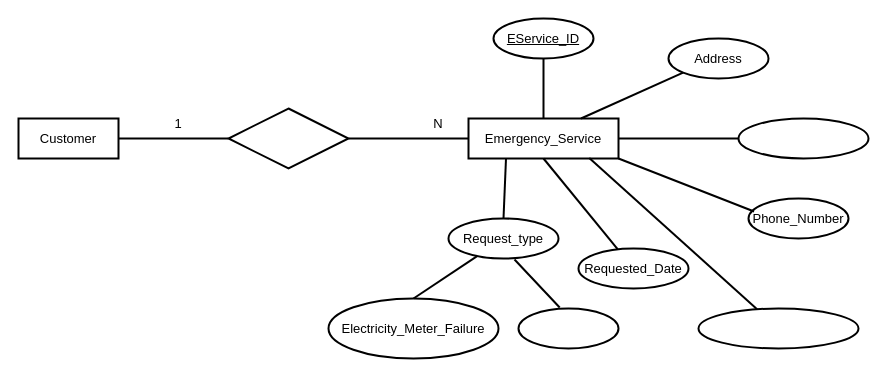
Image size: 886x376. Some labels were removed from this diagram. The shapes that lost their labels are listed below. From the top down, each one's centre as x and y in pixels, then its label:
pixel 288 138: Requests
pixel 803 138: Problem_Description
pixel 568 328: Other_Issue
pixel 778 328: Required_Time_Period
